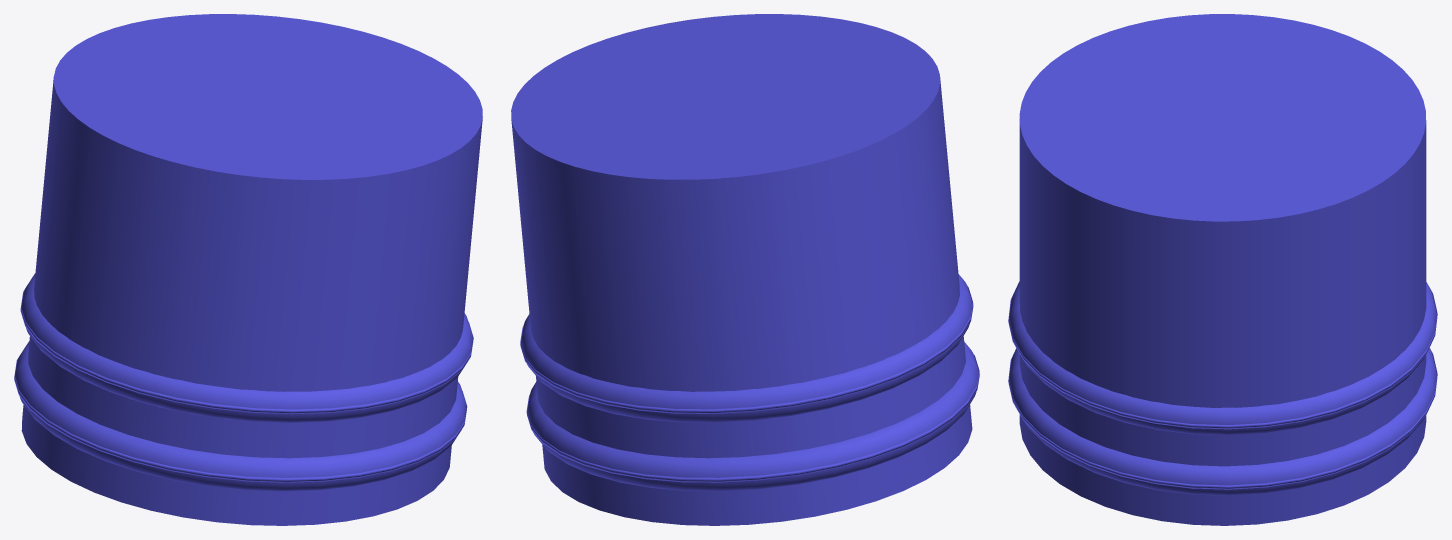
The model's file is bombilla85.obj.
3 renders of one model, left to right at view 1: azimuth 30°, elevation 25°; view 2: azimuth 150°, elevation 25°; view 3: azimuth 270°, elevation 25°, orthographic. The views are drawn at different scales.
Visible parts, largest first — view 1: Cylinder001, Cylinder004, Cylinder003, Cylinder006, Cylinder002; view 2: Cylinder001, Cylinder004, Cylinder003, Cylinder006, Cylinder002; view 3: Cylinder001, Cylinder004, Cylinder002, Cylinder003, Cylinder006.
Part boxes in pixels (left/top/right/bottom): Cylinder001: left=34, top=14, right=482, bottom=391; Cylinder004: left=14, top=341, right=467, bottom=491; Cylinder003: left=28, top=336, right=458, bottom=458; Cylinder006: left=21, top=405, right=451, bottom=525; Cylinder002: left=20, top=273, right=473, bottom=422; Cylinder001: left=511, top=14, right=959, bottom=391; Cylinder004: left=526, top=342, right=979, bottom=491; Cylinder003: left=536, top=336, right=965, bottom=458; Cylinder006: left=542, top=405, right=972, bottom=525; Cylinder002: left=520, top=274, right=973, bottom=422; Cylinder001: left=1019, top=14, right=1426, bottom=407; Cylinder004: left=1008, top=348, right=1437, bottom=495; Cylinder002: left=1008, top=281, right=1437, bottom=435; Cylinder003: left=1019, top=354, right=1426, bottom=466; Cylinder006: left=1019, top=414, right=1426, bottom=525.
Size of the model in its own units: 75.05 by 66.08 by 72.21.
